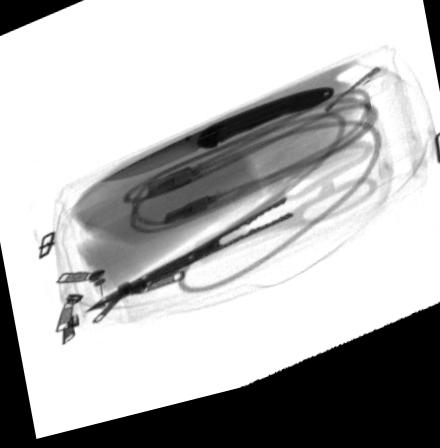Knife: (98, 103, 334, 186)
Scissors: (85, 155, 376, 314)
